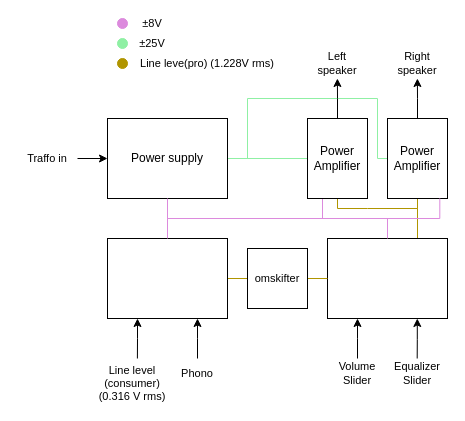
The diagram is 465 pixels wide and 421 high, and some of its shapes have lost their labels. Here are the shapes that lost their labels. From the top down, the box of each, then its label:
(106, 238, 228, 318): Pre-Amp/RIAA
(326, 238, 448, 318): Equalize / Volume
